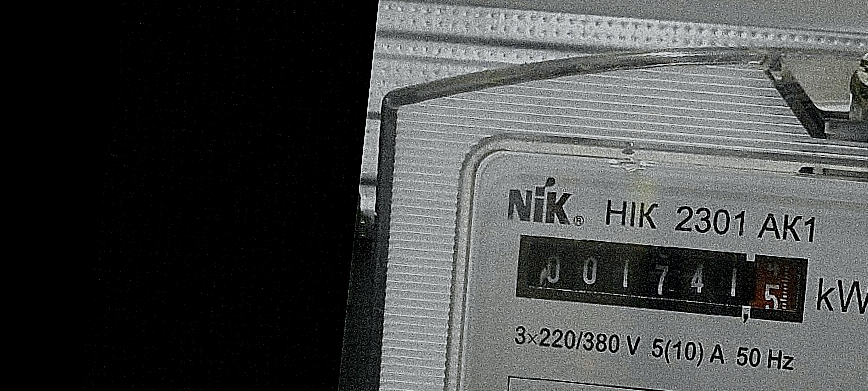0: (579, 251, 601, 287), (543, 250, 565, 285)
1: (614, 253, 635, 290), (724, 263, 743, 300)
4: (686, 258, 710, 295), (765, 258, 782, 278)
5: (760, 278, 782, 311)
7: (650, 259, 671, 296)
screen: (508, 221, 817, 333)
